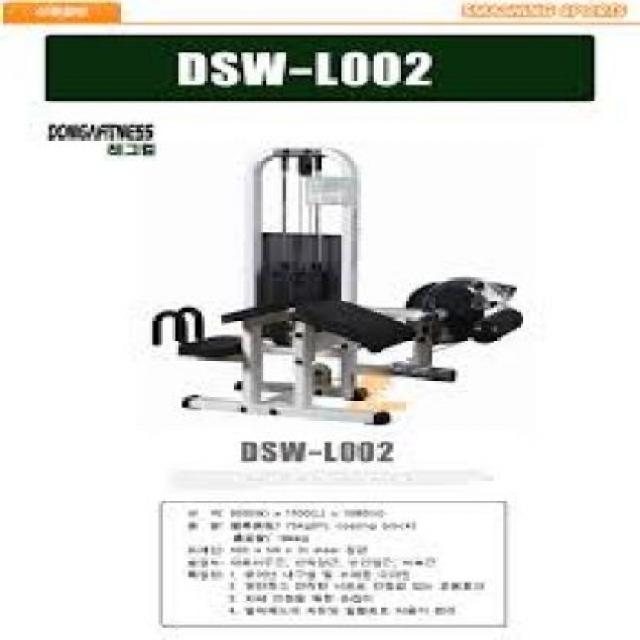reg curl machine: (145, 142, 528, 426)
